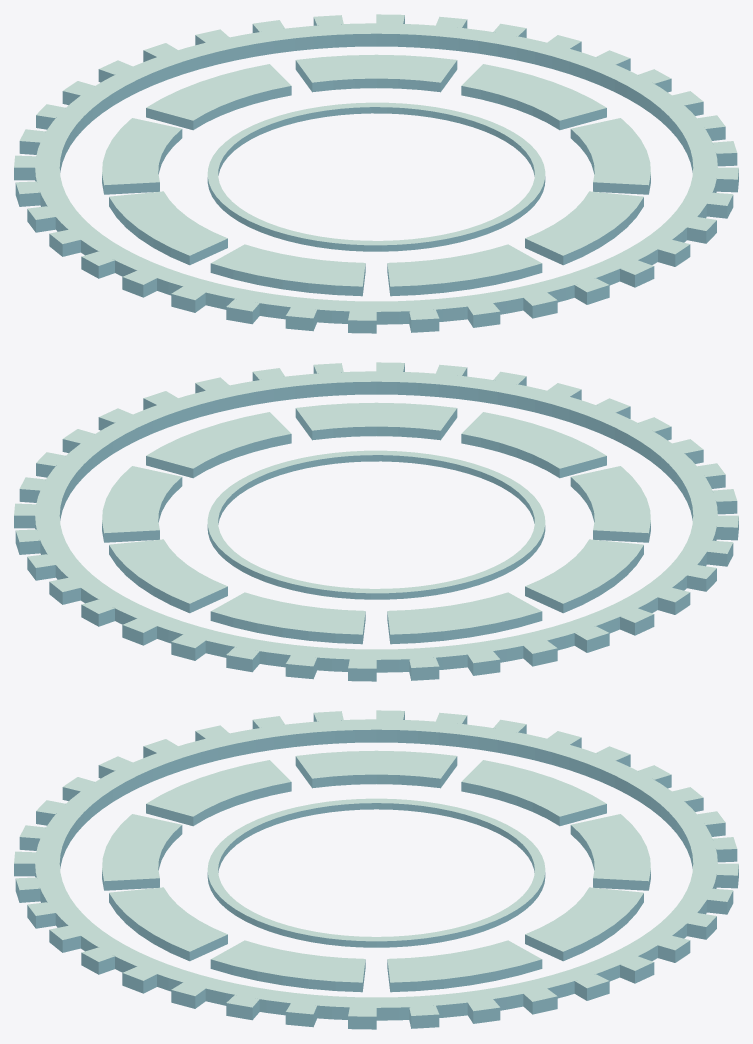
File: sigil_ring.glb
3 views of the same model, one above another, from view 1: azimuth 30°, elevation 25°; view 2: azimuth 150°, elevation 25°; view 3: azimuth 270°, elevation 25° (orthographic).
Visible parts, largest first — view 1: sigil_ring; view 2: sigil_ring; view 3: sigil_ring.
Boxes of the visible parts, x1,y1,x2,y2 form: sigil_ring: [14, 14, 738, 333]; sigil_ring: [14, 362, 738, 681]; sigil_ring: [14, 710, 738, 1029].
Bounding box in the file's own units: 2.06 × 0.04 × 2.06.
